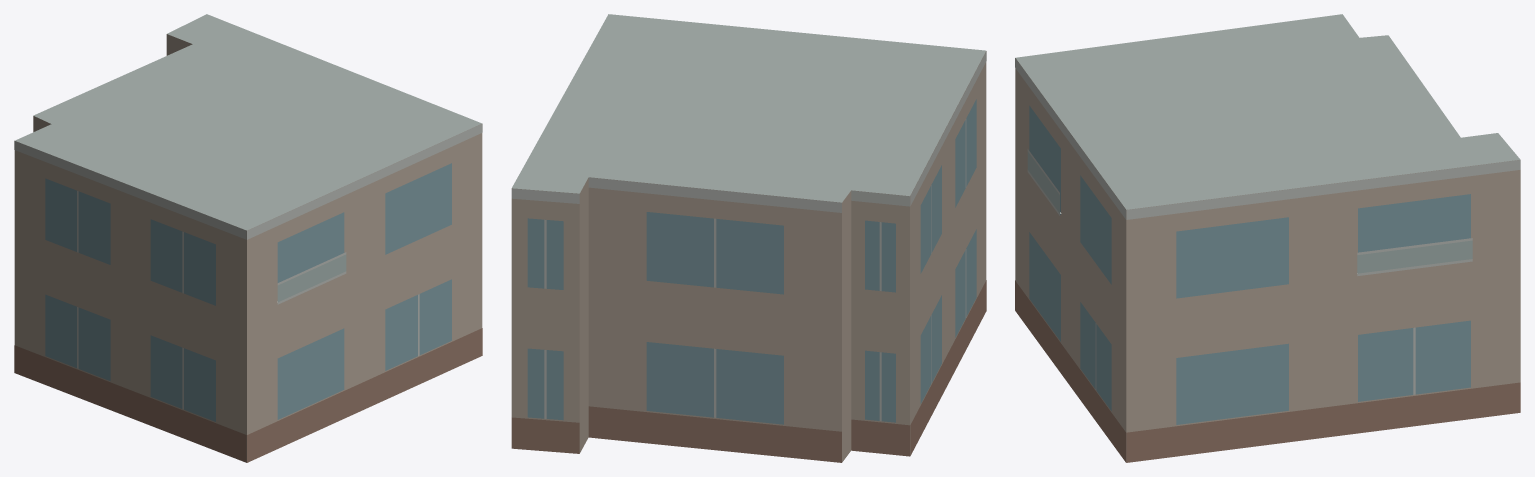
The model's file is survey-upis-32617995.glb.
3 renders of one model, left to right at view 1: azimuth 30°, elevation 25°; view 2: azimuth 150°, elevation 25°; view 3: azimuth 270°, elevation 25°, orthographic. The views are drawn at different scales.
Visible parts, largest first — view 1: survey-upis-32617995.tmp; view 2: survey-upis-32617995.tmp; view 3: survey-upis-32617995.tmp.
Part boxes in pixels (x1,y1,x2,y2): survey-upis-32617995.tmp: [14, 14, 482, 462]; survey-upis-32617995.tmp: [511, 14, 986, 462]; survey-upis-32617995.tmp: [1015, 14, 1520, 462].
Bounding box in the file's own units: 10.14 × 6.1 × 11.05.
